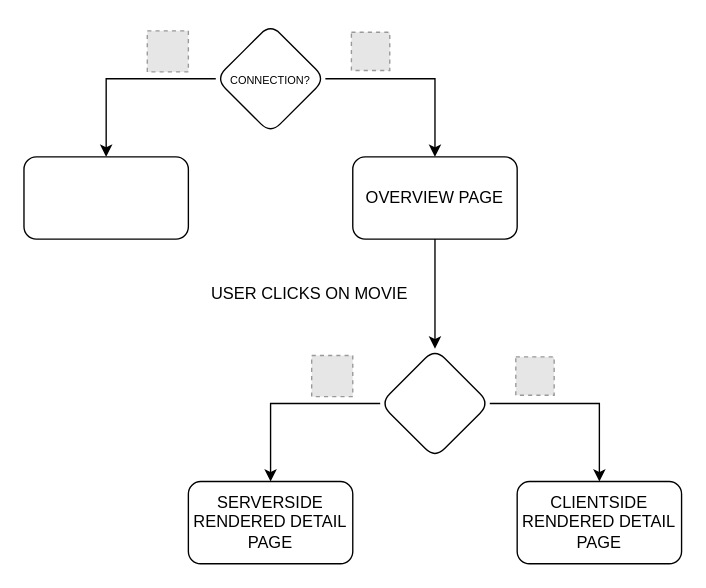
Some shapes in this 706 by 588 pixel diagram are drawn without their labels. Grey dashed boxes stand in for pictures. The shapes that lost their labels are listed below. From the top down, each one's centre as x and y in pixels, then its label:
point (105, 197): NO CONNECTION PAGE
point (434, 402): JS?
